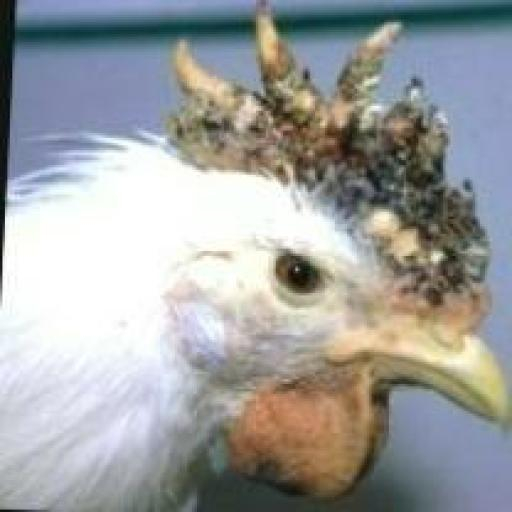disease: (165, 6, 512, 331)
